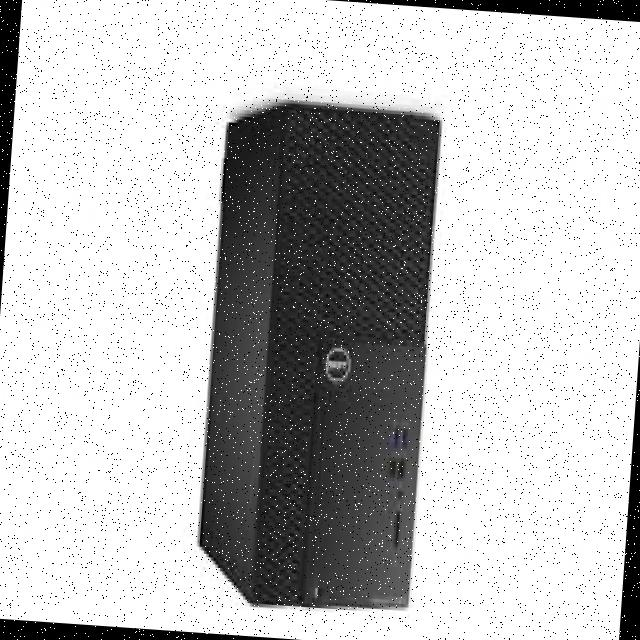Computer: (178, 74, 458, 631)
